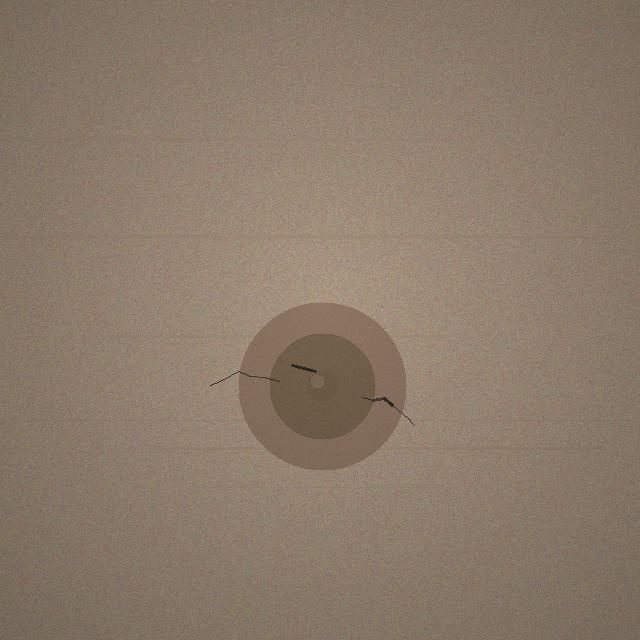crack: (238, 302, 406, 470)
